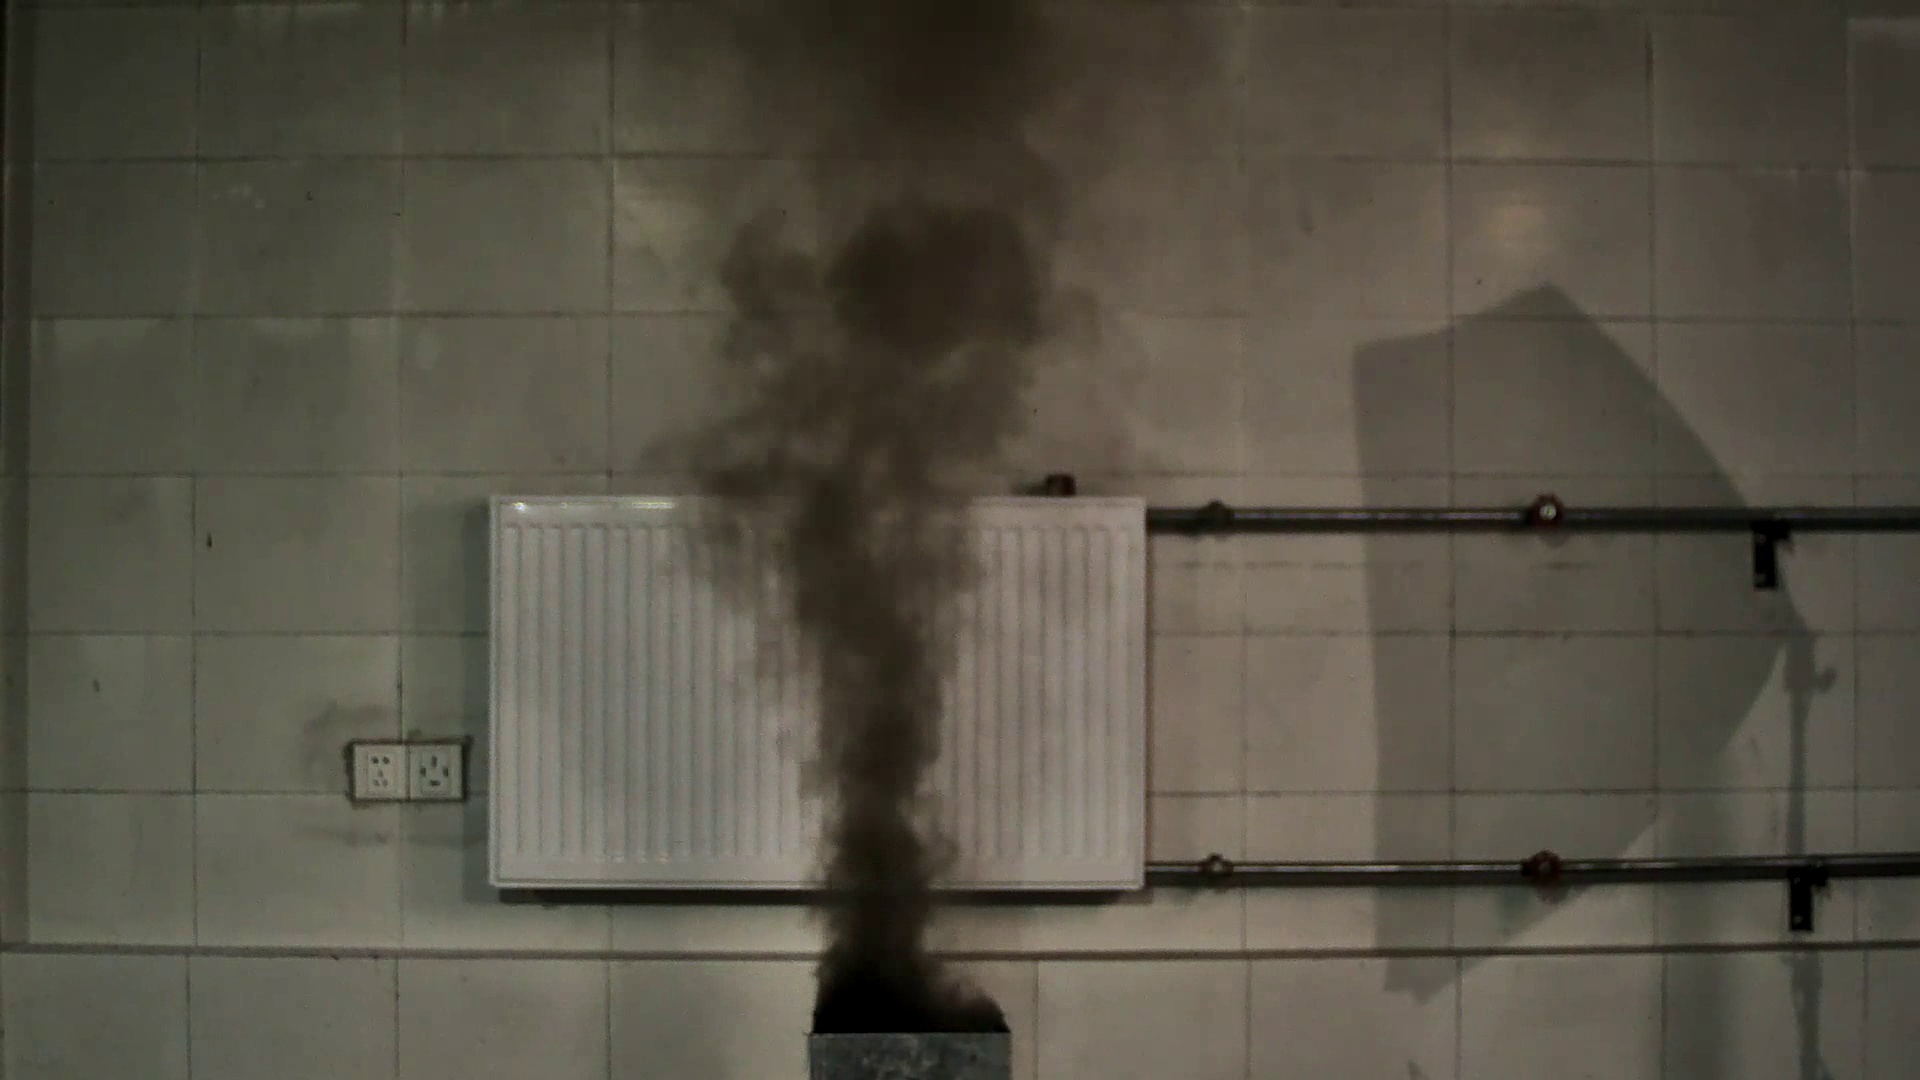smoke: (690, 200, 1116, 993)
